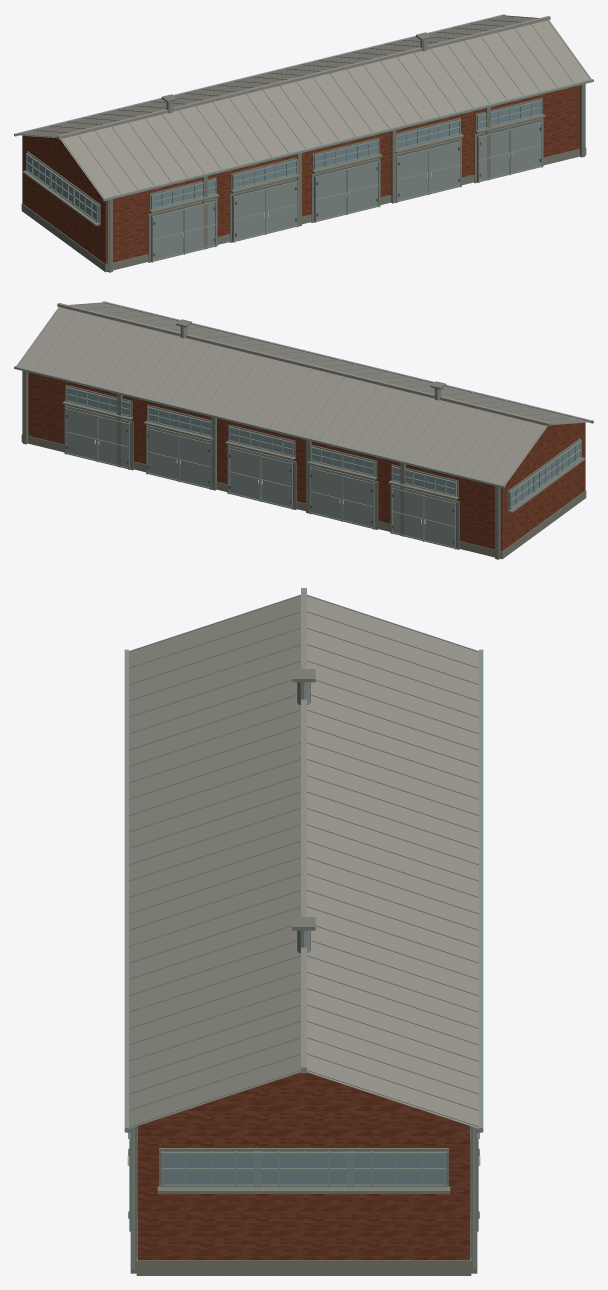
Rendered from port_warehouse_small.glb.
3 renders of one model, top to bottom at view 1: azimuth 30°, elevation 25°; view 2: azimuth 150°, elevation 25°; view 3: azimuth 270°, elevation 25°, orthographic. The views are drawn at different scales.
Parts seen in each view (by area): view 1: port_warehouse_small; view 2: port_warehouse_small; view 3: port_warehouse_small.
Boxes of the visible parts, bbox=[...] form: port_warehouse_small: bbox=[14, 14, 593, 272]; port_warehouse_small: bbox=[14, 301, 593, 559]; port_warehouse_small: bbox=[124, 588, 483, 1275].
Bounding box in the file's own units: 41 × 9.48 × 12.96.
7 materials, 2 textured.
